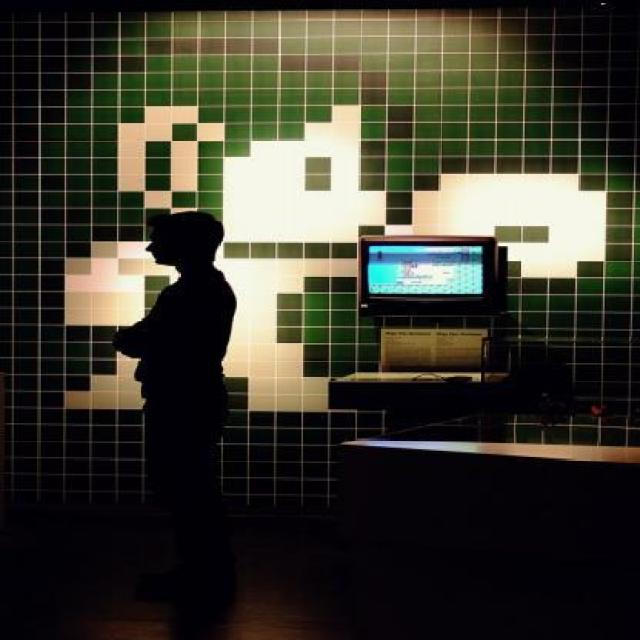Person: (117, 214, 238, 638)
